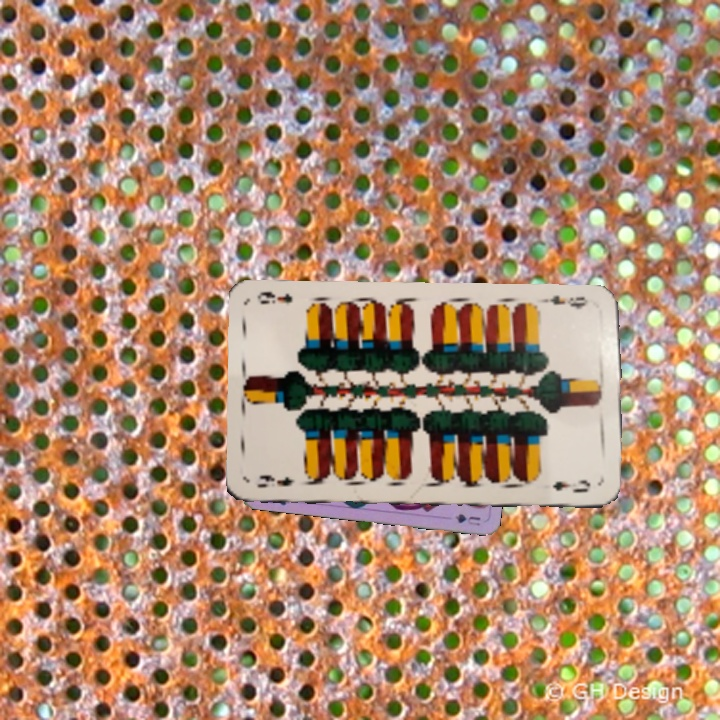E9: (541, 291, 591, 312), (253, 471, 297, 490)
